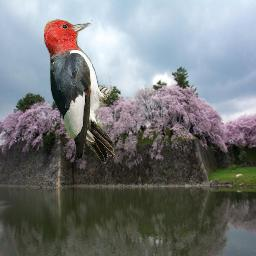Woodpecker: (44, 18, 118, 164)
